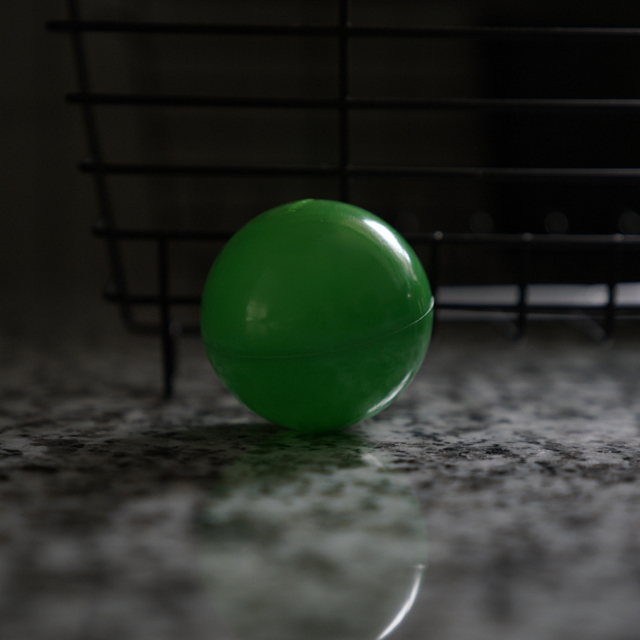Ball: (199, 198, 431, 432)
